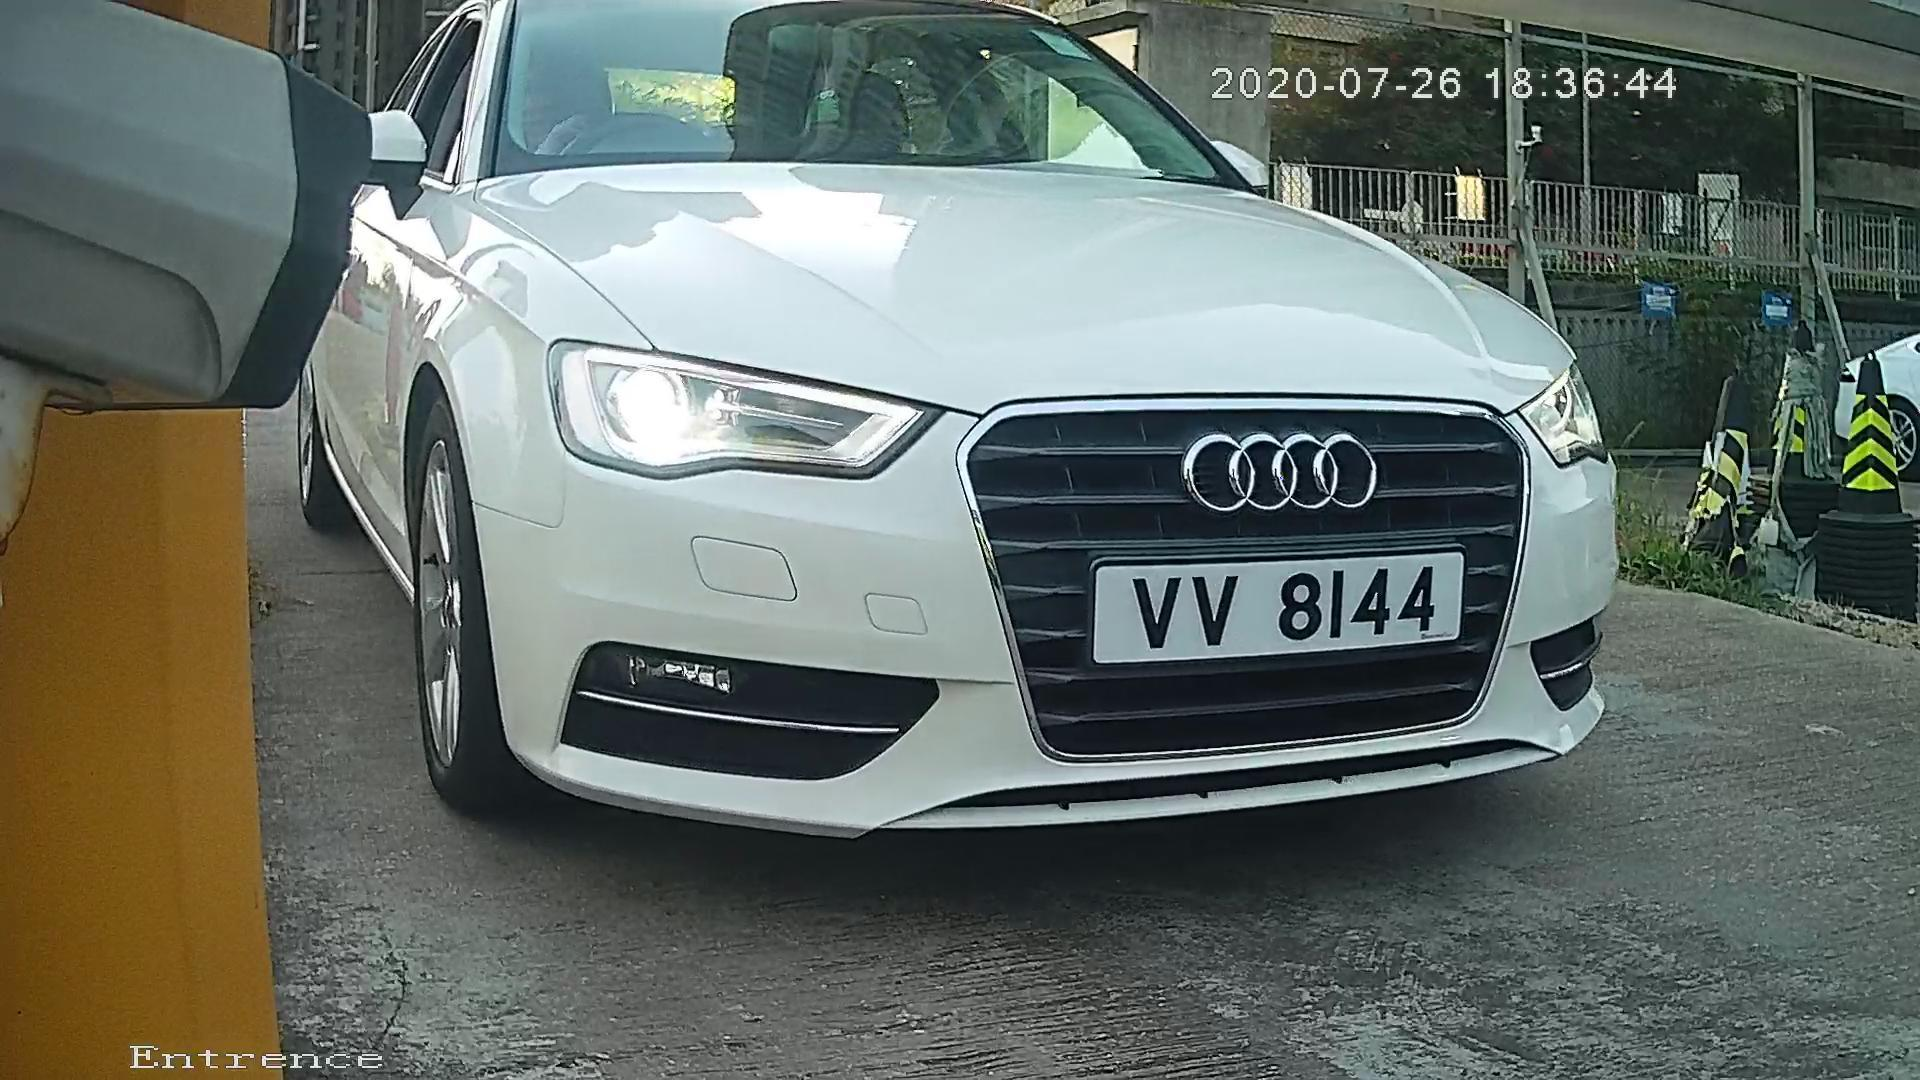License Plate: (1072, 527, 1492, 676)
